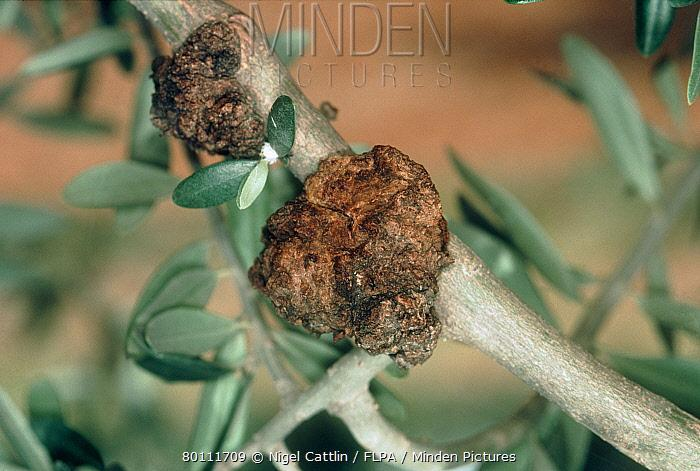Tuberculosis: (245, 139, 456, 373), (142, 17, 277, 167)
